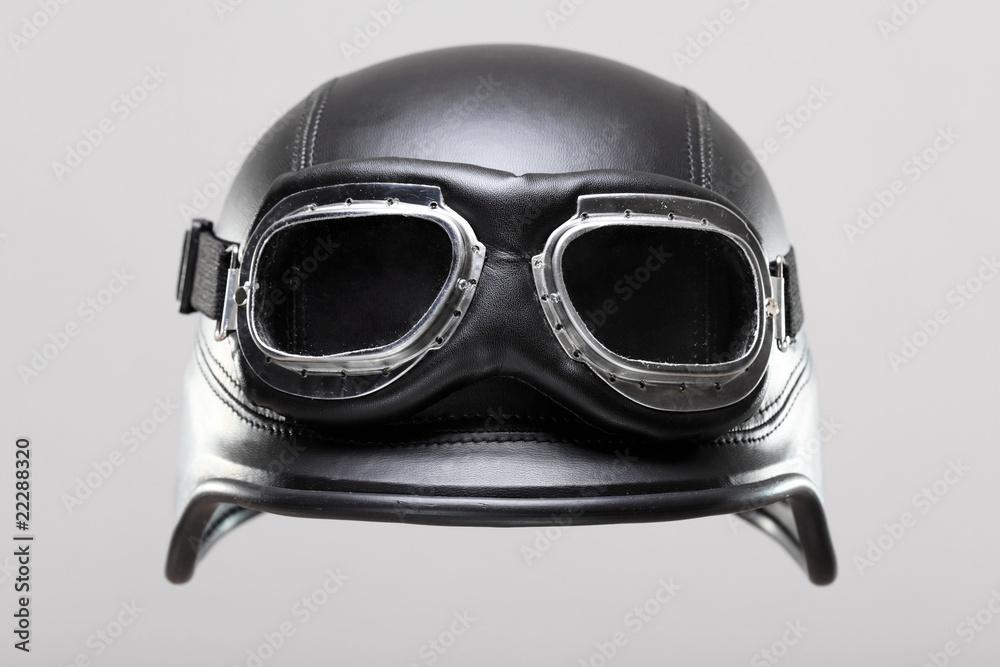helmet: (161, 39, 843, 591)
